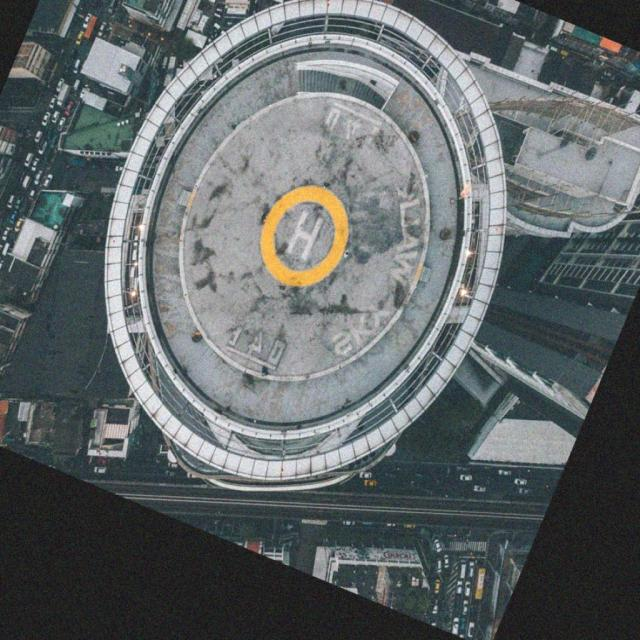helipad: (256, 181, 353, 291)
